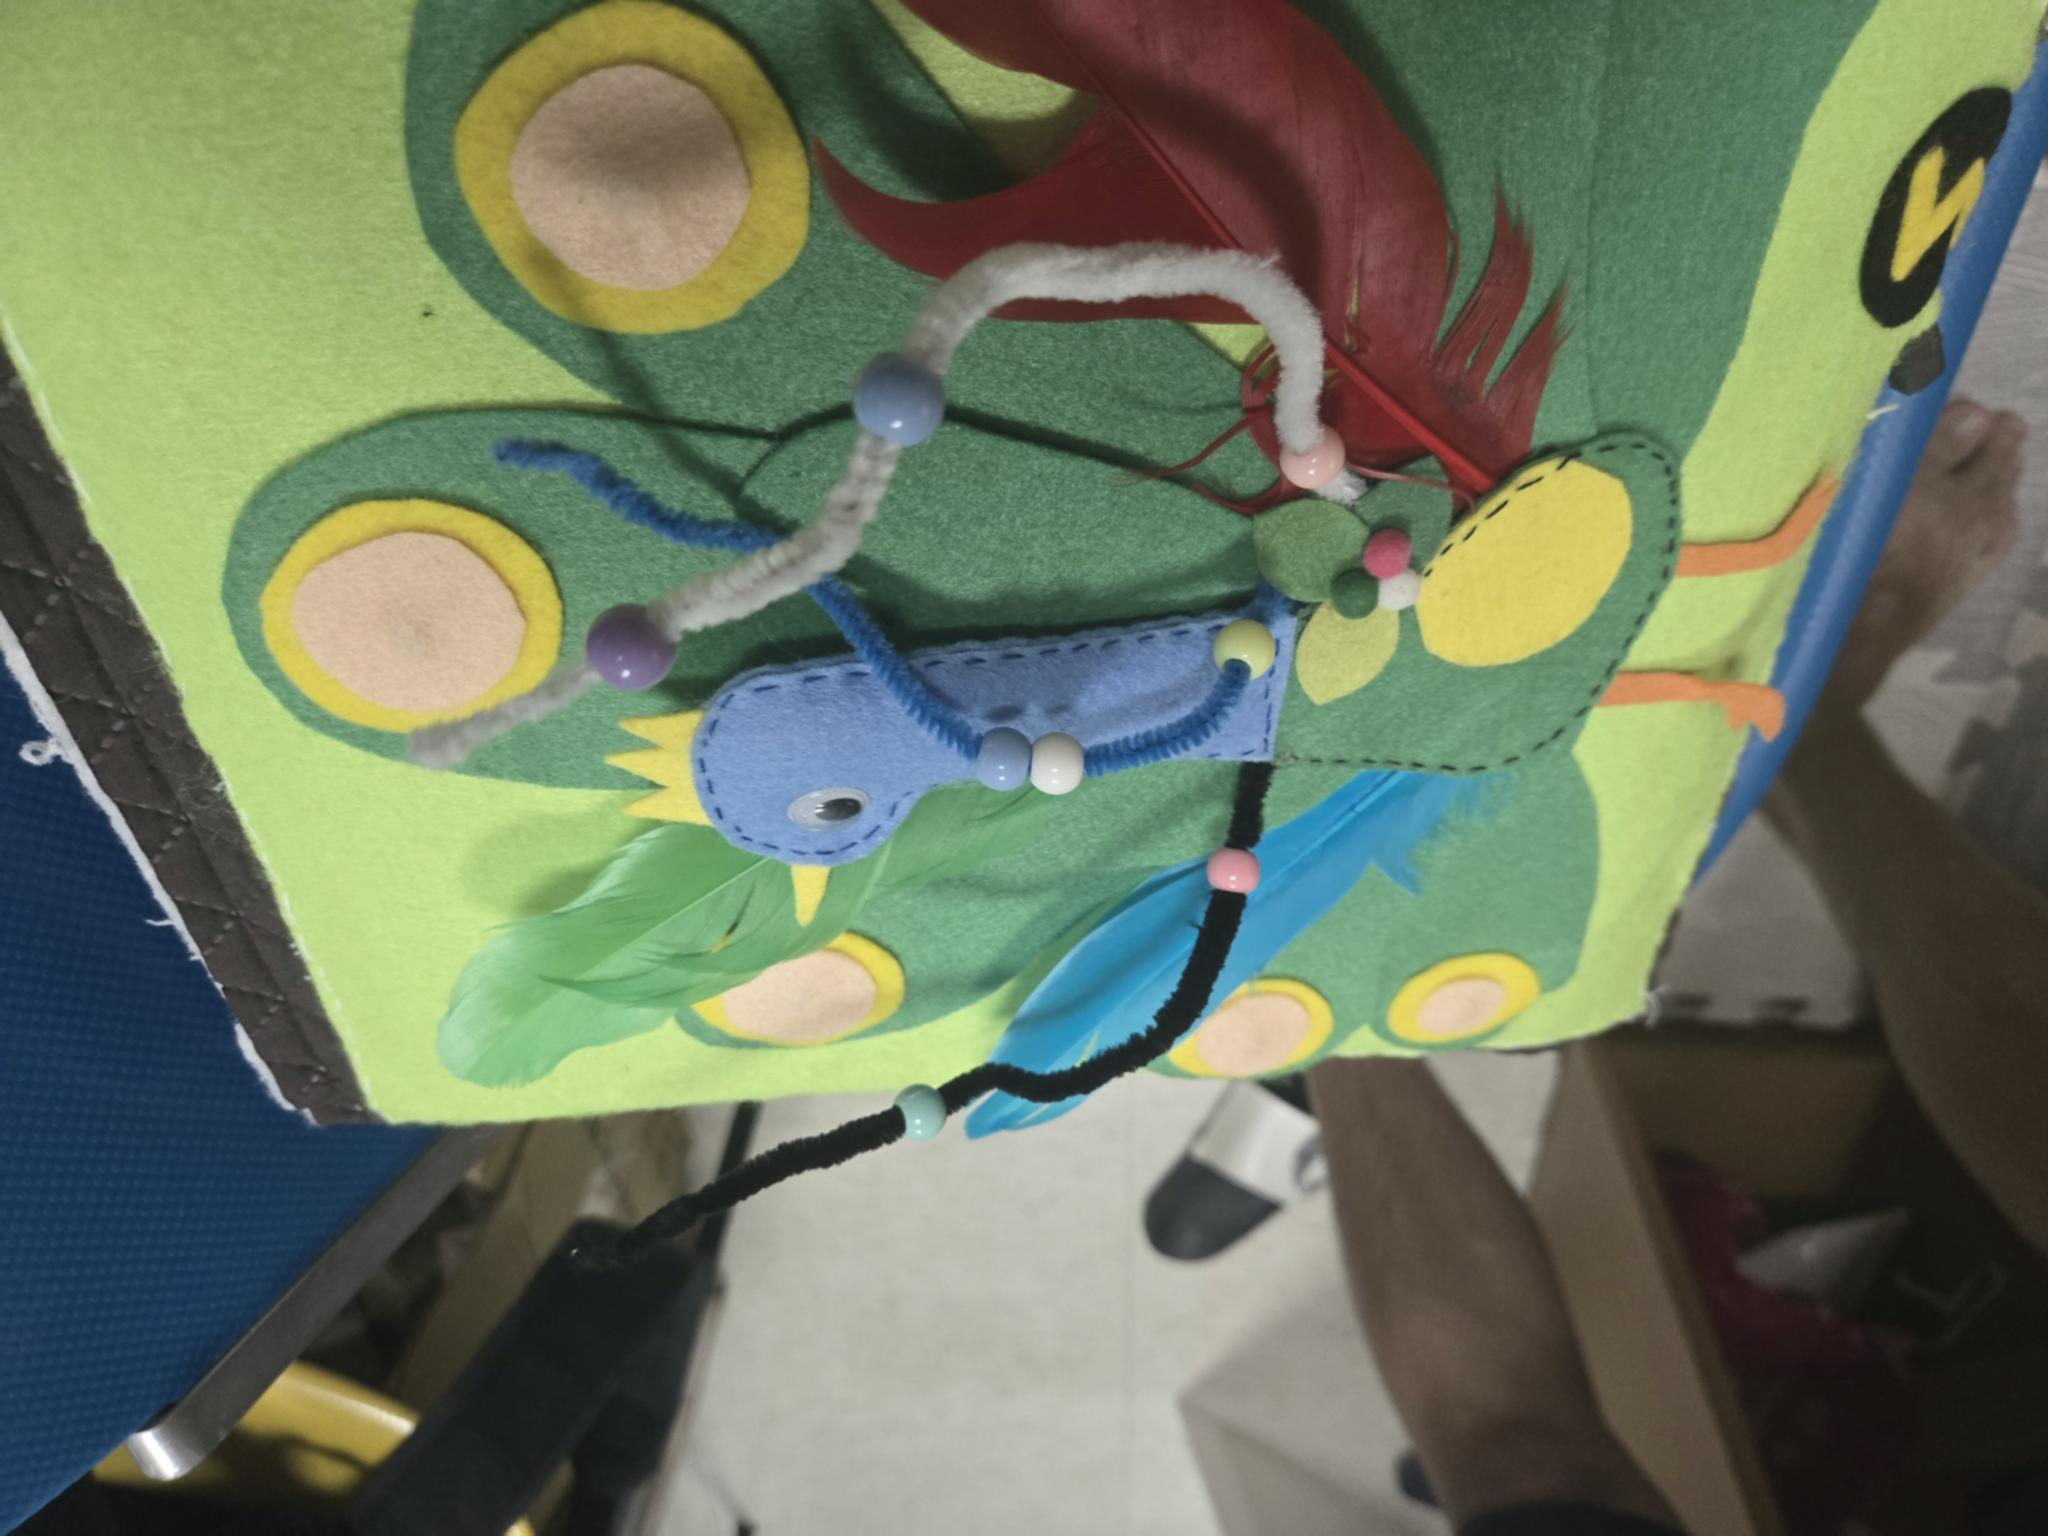bead: (842, 339, 951, 463), (592, 579, 676, 715), (1256, 419, 1356, 507), (1203, 600, 1277, 686), (968, 721, 1037, 803), (892, 1076, 956, 1152), (1198, 831, 1263, 907), (1032, 729, 1095, 805)
